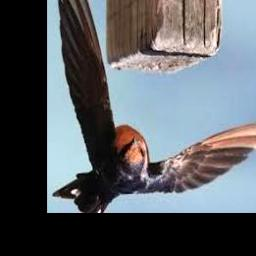Swallow: (52, 0, 256, 213)
